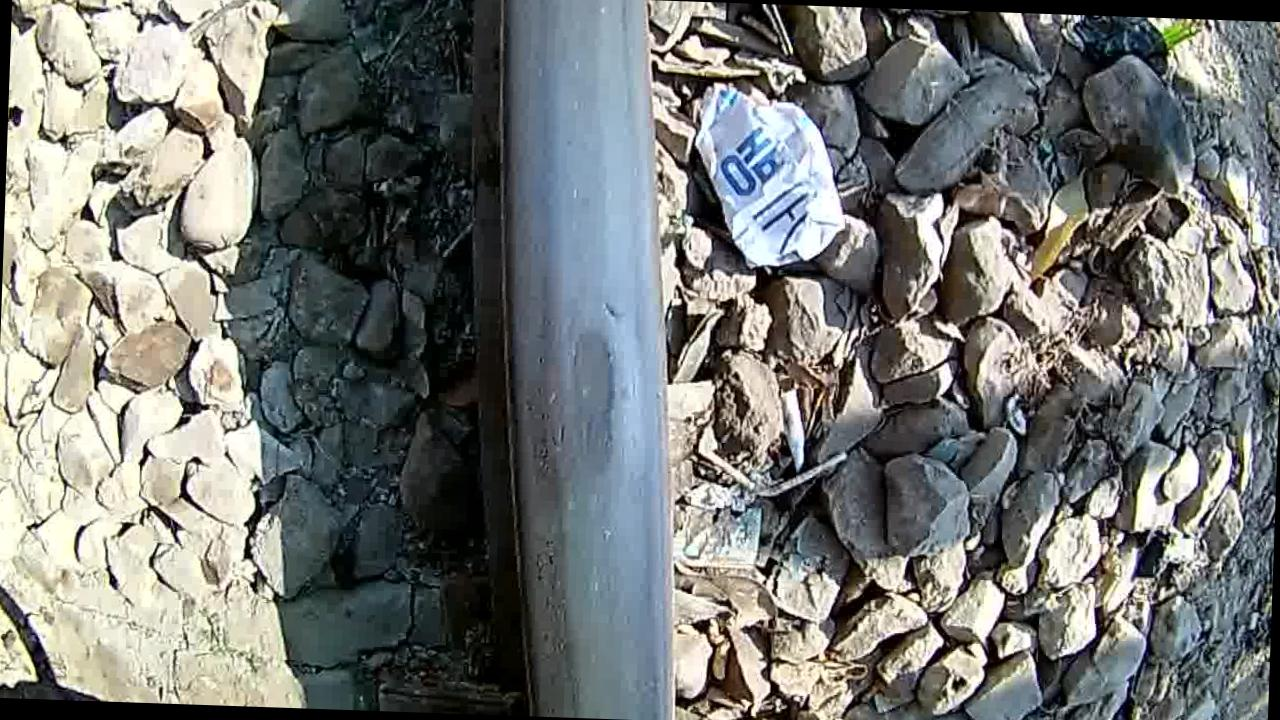bolt_missing: (504, 249, 660, 549)
